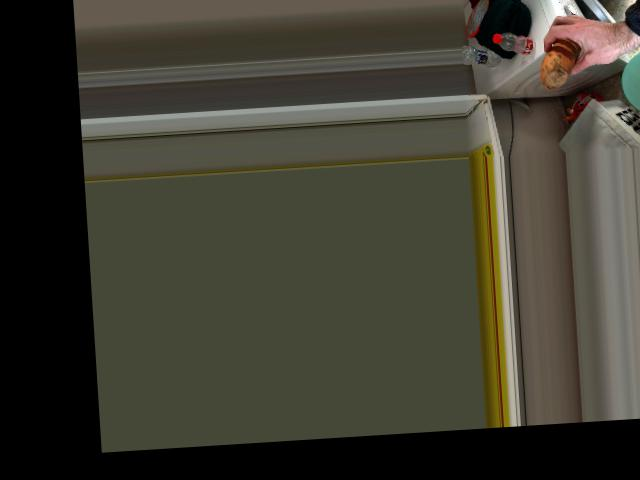sweet_potato: (536, 35, 582, 81)
